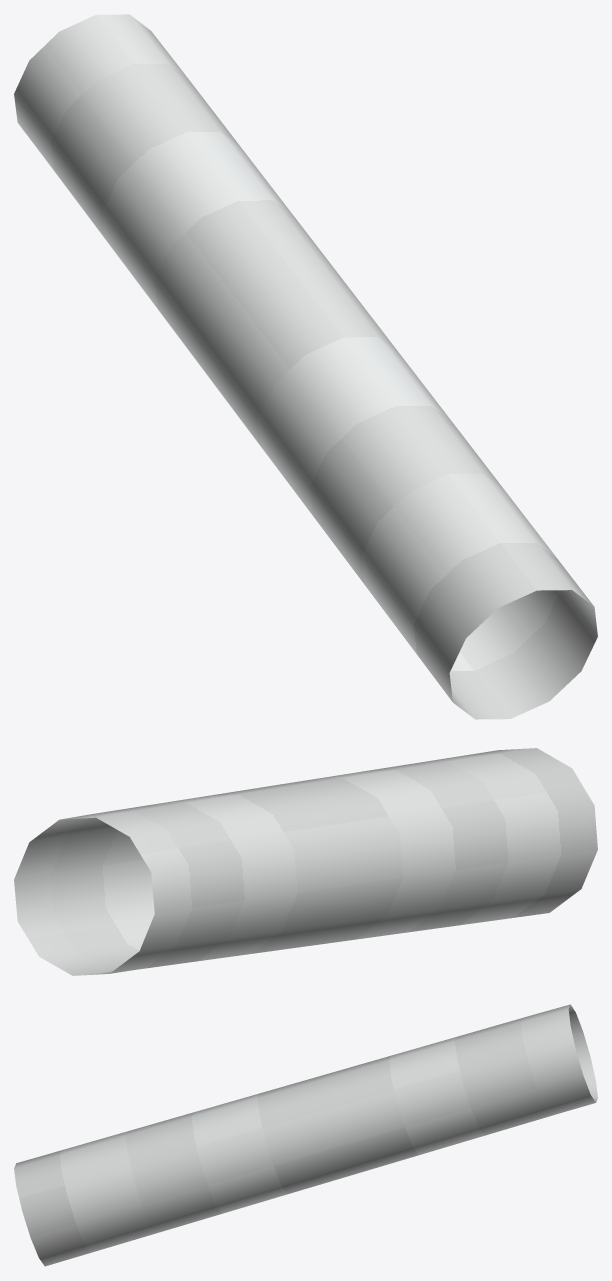
The model's file is luminairearm_caltrans12ftstraight_c4.obj.
The picture shows the model from 3 angles, top to bottom: view 1: azimuth 30°, elevation 25°; view 2: azimuth 150°, elevation 25°; view 3: azimuth 270°, elevation 25°; orthographic projection. The views are drawn at different scales.
Visible parts, largest first — view 1: luminairearm_caltrans12ftstraight_c4; view 2: luminairearm_caltrans12ftstraight_c4; view 3: luminairearm_caltrans12ftstraight_c4.
Boxes of the visible parts, left/top/right/bottom form: luminairearm_caltrans12ftstraight_c4: left=14, top=14, right=597, bottom=719; luminairearm_caltrans12ftstraight_c4: left=14, top=748, right=597, bottom=975; luminairearm_caltrans12ftstraight_c4: left=14, top=1004, right=597, bottom=1266.
Bounding box in the file's own units: 0.195 × 0.5033 × 1.06.
